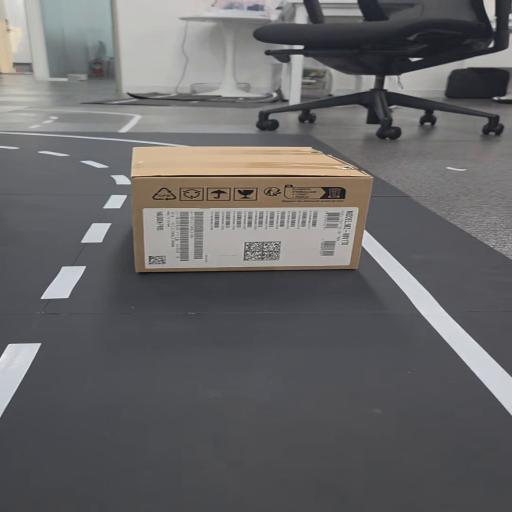Box: (120, 140, 377, 276)
